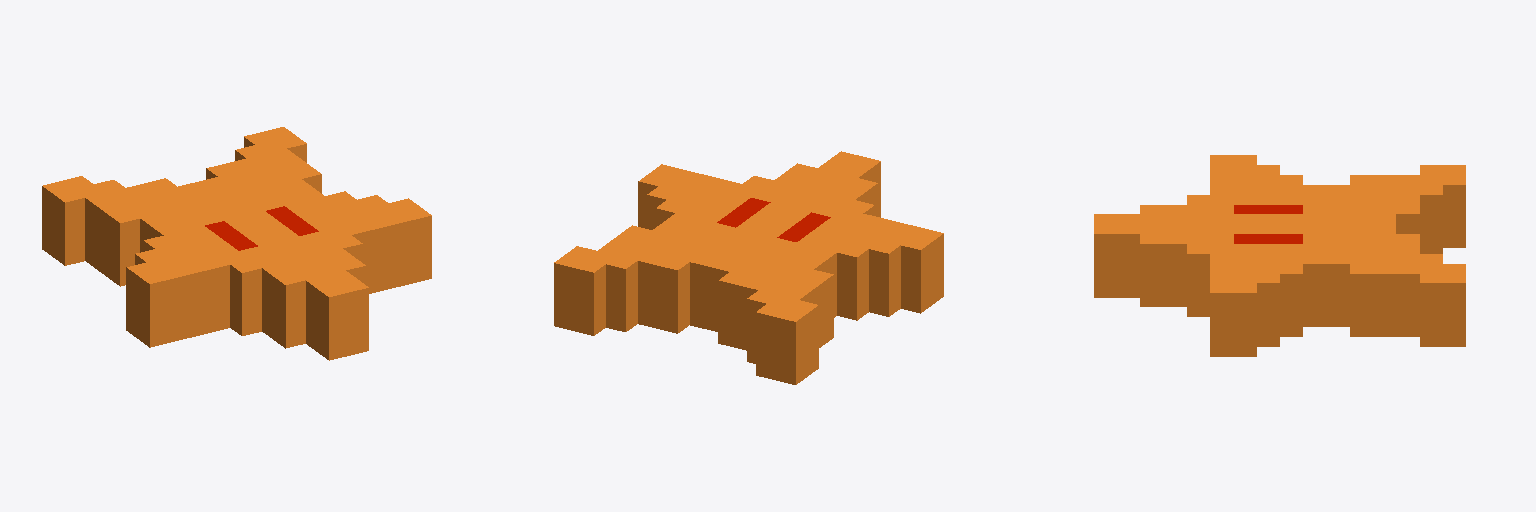
The picture shows the model from 3 angles: view 1: azimuth 30°, elevation 25°; view 2: azimuth 150°, elevation 25°; view 3: azimuth 270°, elevation 25°; orthographic projection.
Bounding box in the file's own units: 140 × 30 × 160.
Materials: 1 (1 with a texture image).